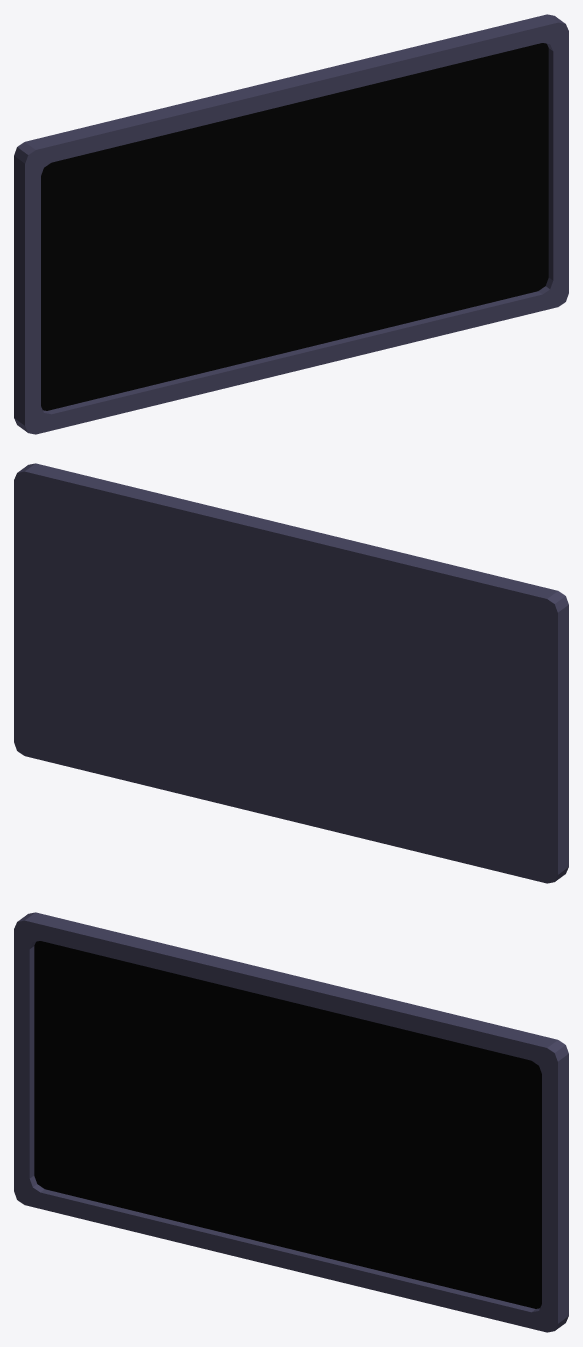
The picture shows the model from 3 angles, top to bottom: view 1: azimuth 30°, elevation 25°; view 2: azimuth 150°, elevation 25°; view 3: azimuth 330°, elevation 25°; orthographic projection.
Visible parts, largest first — view 1: Cube.001; view 2: Cube.001; view 3: Cube.001.
Boxes of the visible parts, bbox=[...] form: Cube.001: bbox=[14, 14, 568, 434]; Cube.001: bbox=[14, 463, 568, 883]; Cube.001: bbox=[14, 912, 568, 1332].
Size of the model in its own units: 335 by 168 by 11.93.
